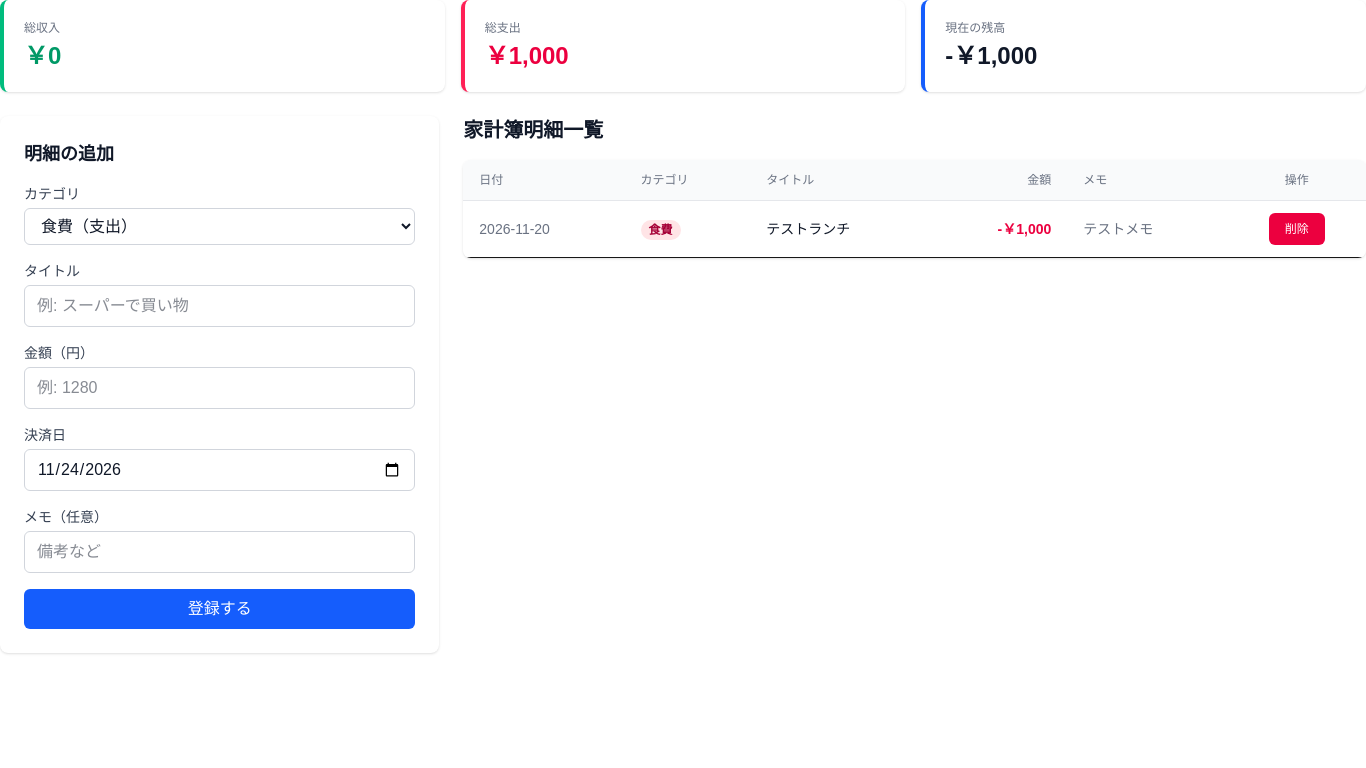
Test case: TransactionSection › 削除ボタンをクリックすると明細が削除されること
Check: the text "テストランチ" is shown, box left=750, top=200, right=933, bottom=258
What coordinates should you click on to do the following:
click the button "削除"
I would click on:
 (1297, 229)
Its box is left=1269, top=213, right=1325, bottom=245.
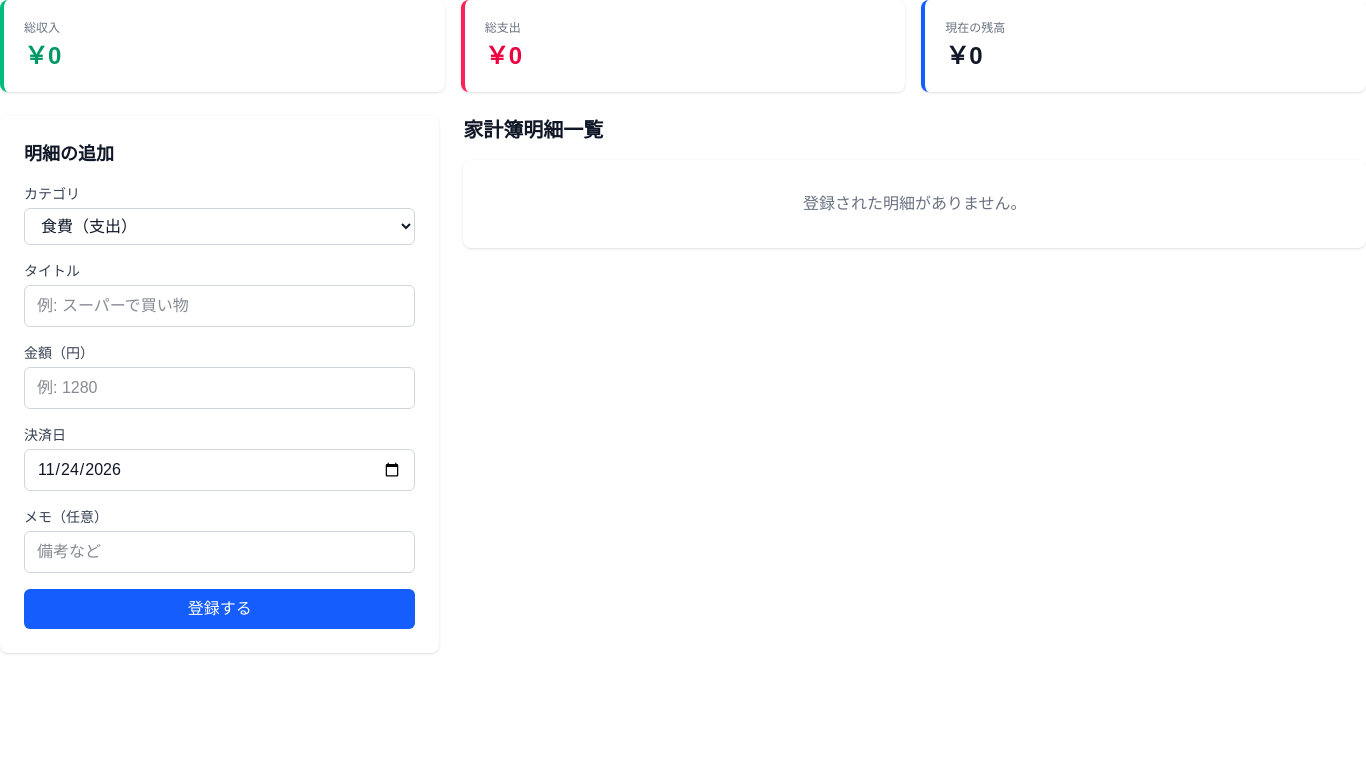
Check: the text "登録された明細がありません。" is shown, box left=463, top=160, right=1365, bottom=248
